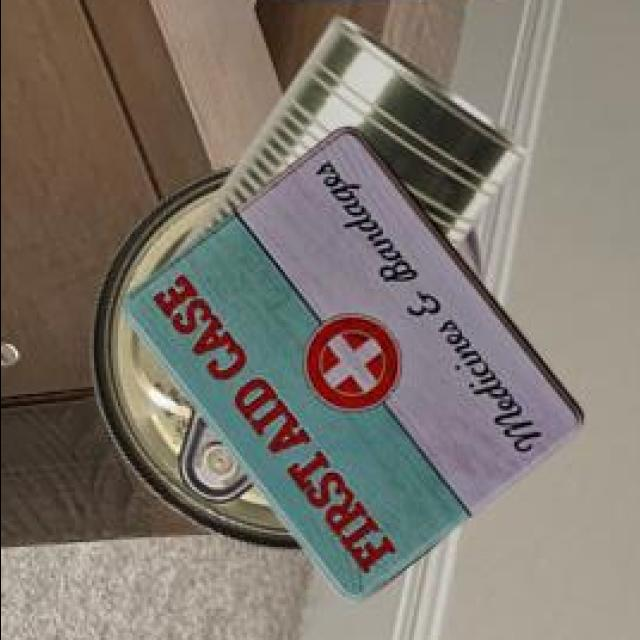logam: (125, 123, 586, 598), (94, 164, 423, 547), (178, 16, 531, 253)
